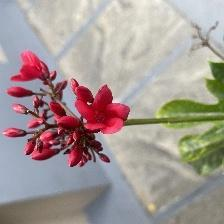jatropha: (76, 85, 133, 140)
